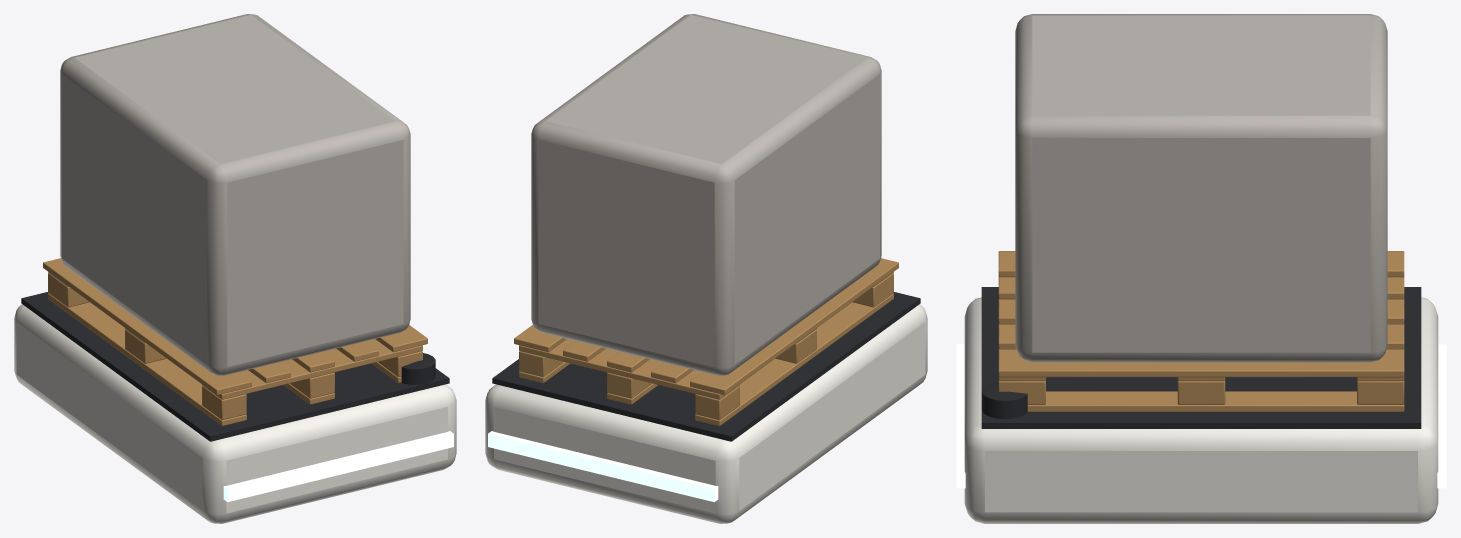
File: agv_bale.fbx
3 views of the same model, side by side, from view 1: azimuth 30°, elevation 25°; view 2: azimuth 150°, elevation 25°; view 3: azimuth 270°, elevation 25° (orthographic). The views are drawn at different scales.
Parts seen in each view (by area): view 1: agv_bale; view 2: agv_bale; view 3: agv_bale.
Part boxes in pixels (x1,y1,x2,y2): agv_bale: [14, 14, 456, 523]; agv_bale: [485, 14, 927, 523]; agv_bale: [956, 14, 1446, 523].
Bounding box in the file's own units: 1 × 1.28 × 1.45.
